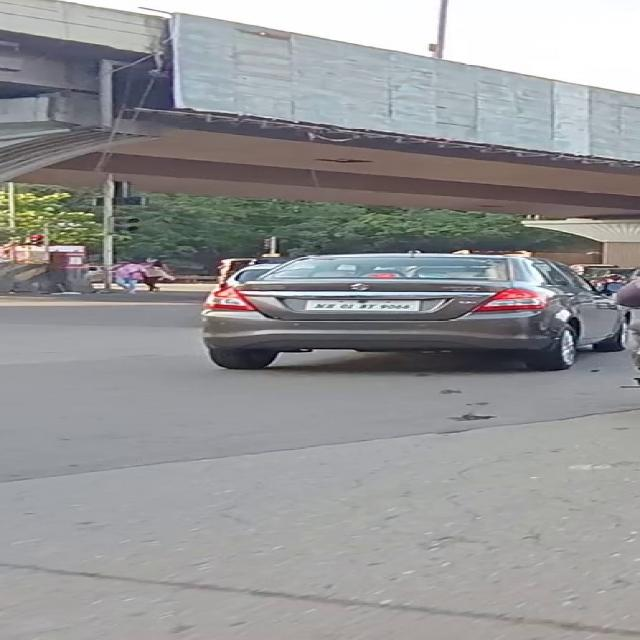Plate: (300, 299, 420, 313)
